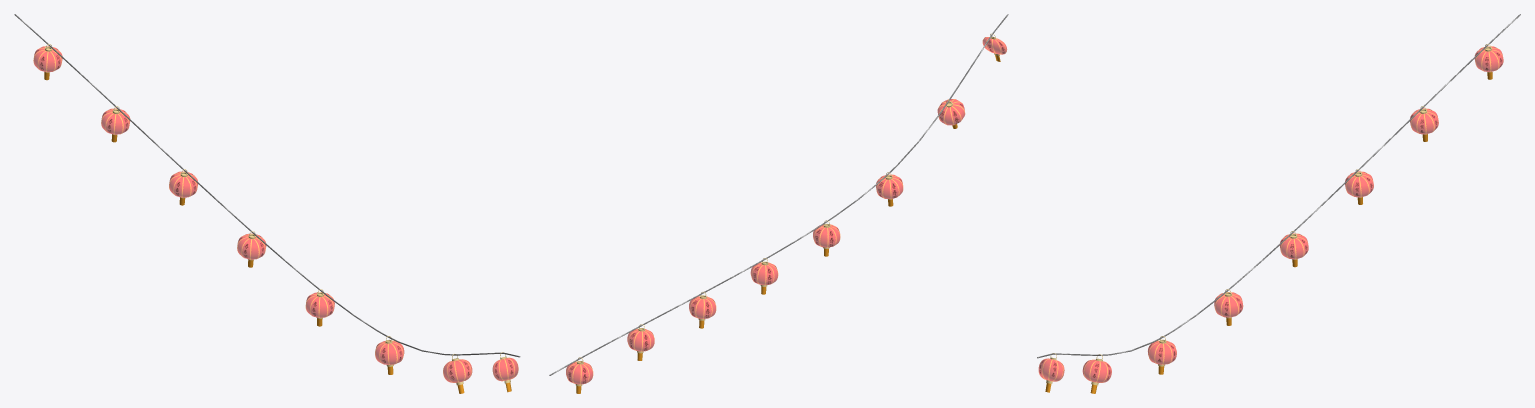
File: SM_lamp_spline_Splines_33.fbx
3 views of the same model, side by side, from view 1: azimuth 30°, elevation 25°; view 2: azimuth 150°, elevation 25°; view 3: azimuth 330°, elevation 25° (orthographic). The views are drawn at different scales.
Visible parts, largest first — view 1: SM_lamp_spline_Splines_33; view 2: SM_lamp_spline_Splines_33; view 3: SM_lamp_spline_Splines_33.
Part boxes in pixels (box(x1,y1,x2,y2)): SM_lamp_spline_Splines_33: box(14, 14, 520, 393); SM_lamp_spline_Splines_33: box(549, 14, 1008, 393); SM_lamp_spline_Splines_33: box(1037, 14, 1520, 393).
Size of the model in its own units: 70.27 by 1850 by 231.
